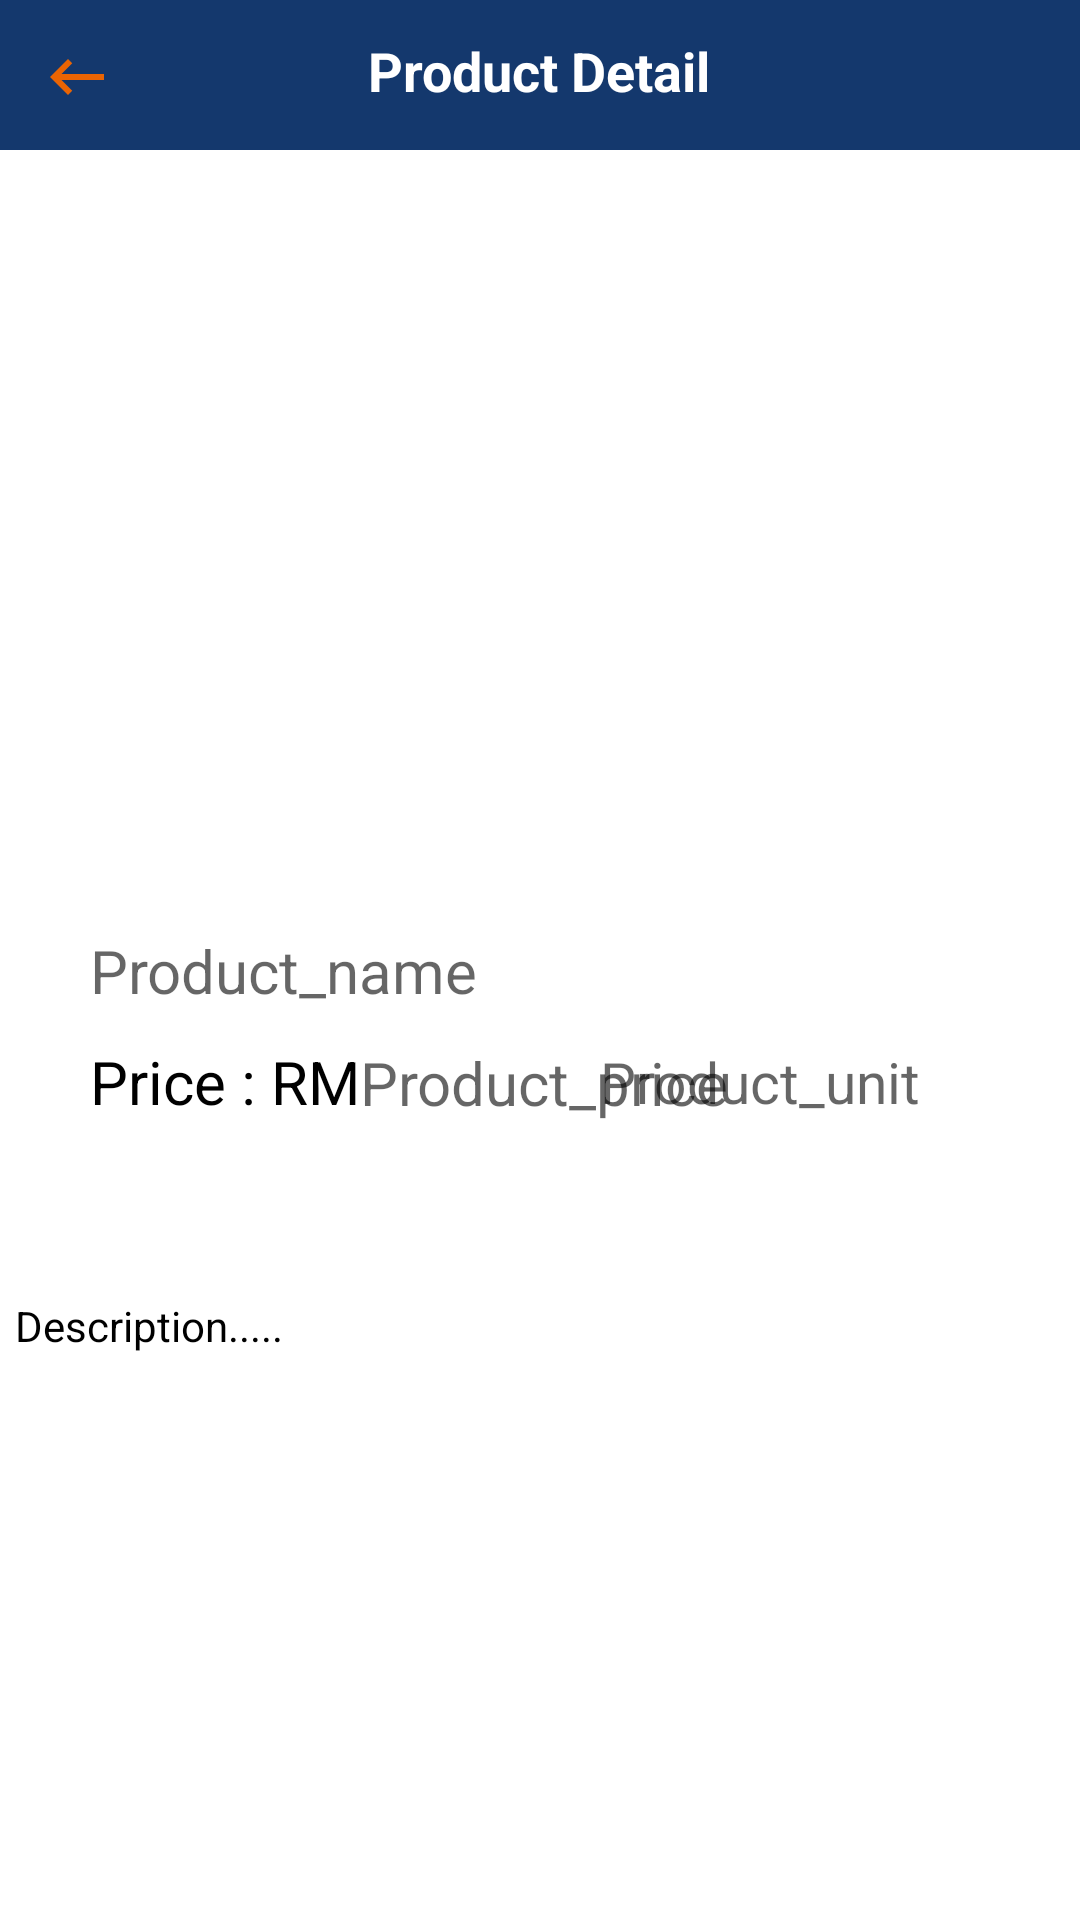

Icon click points for this 1080*1920 phone screenshot, format (x,y):
backarrow: (77,77)
